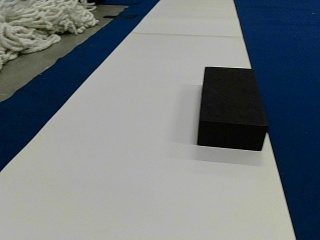block: (198, 67, 267, 150)
